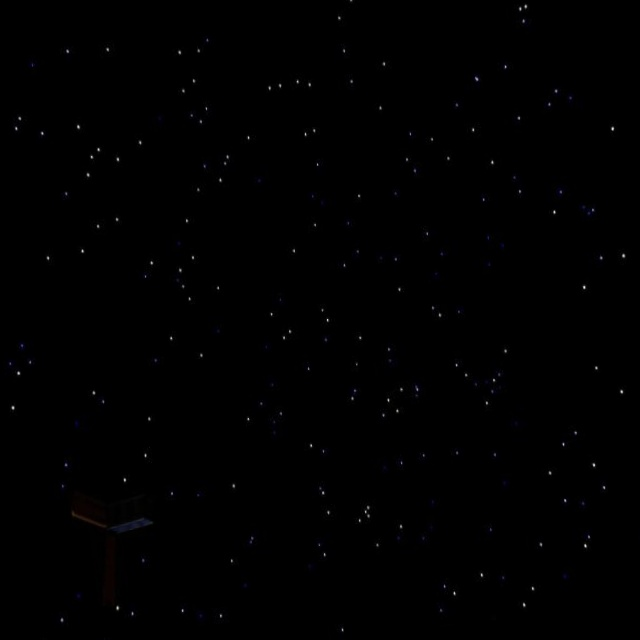satellite: (56, 458, 164, 630)
